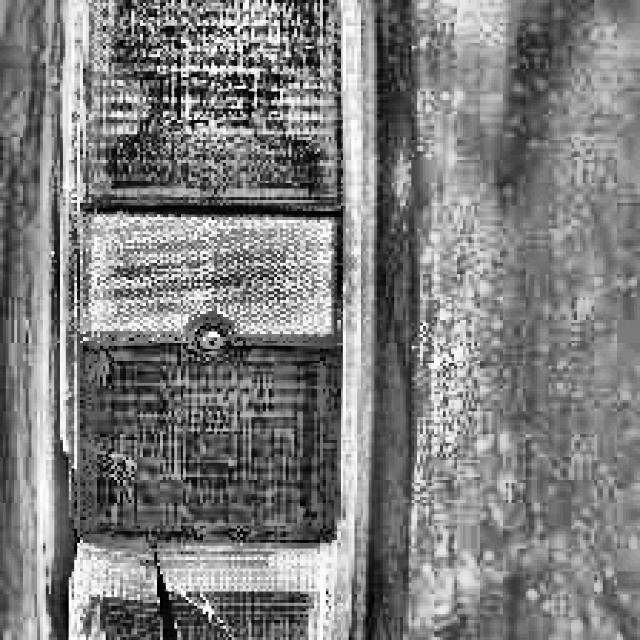tail_lamp: (83, 9, 326, 636)
